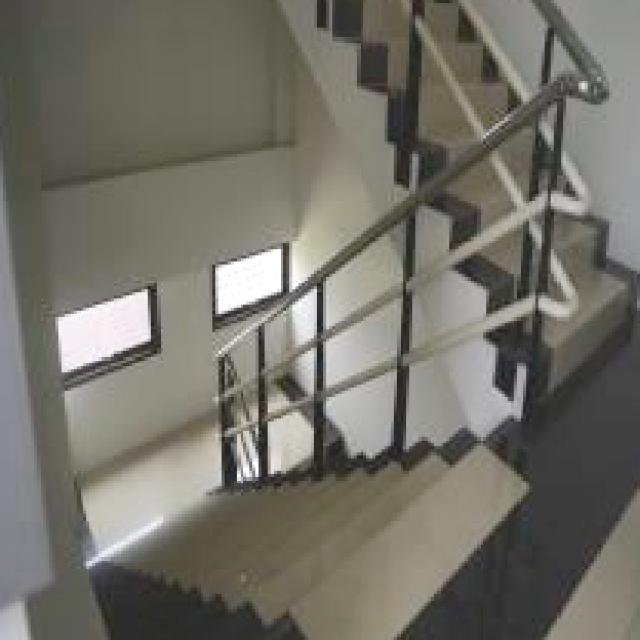downstair: (152, 487, 533, 640)
